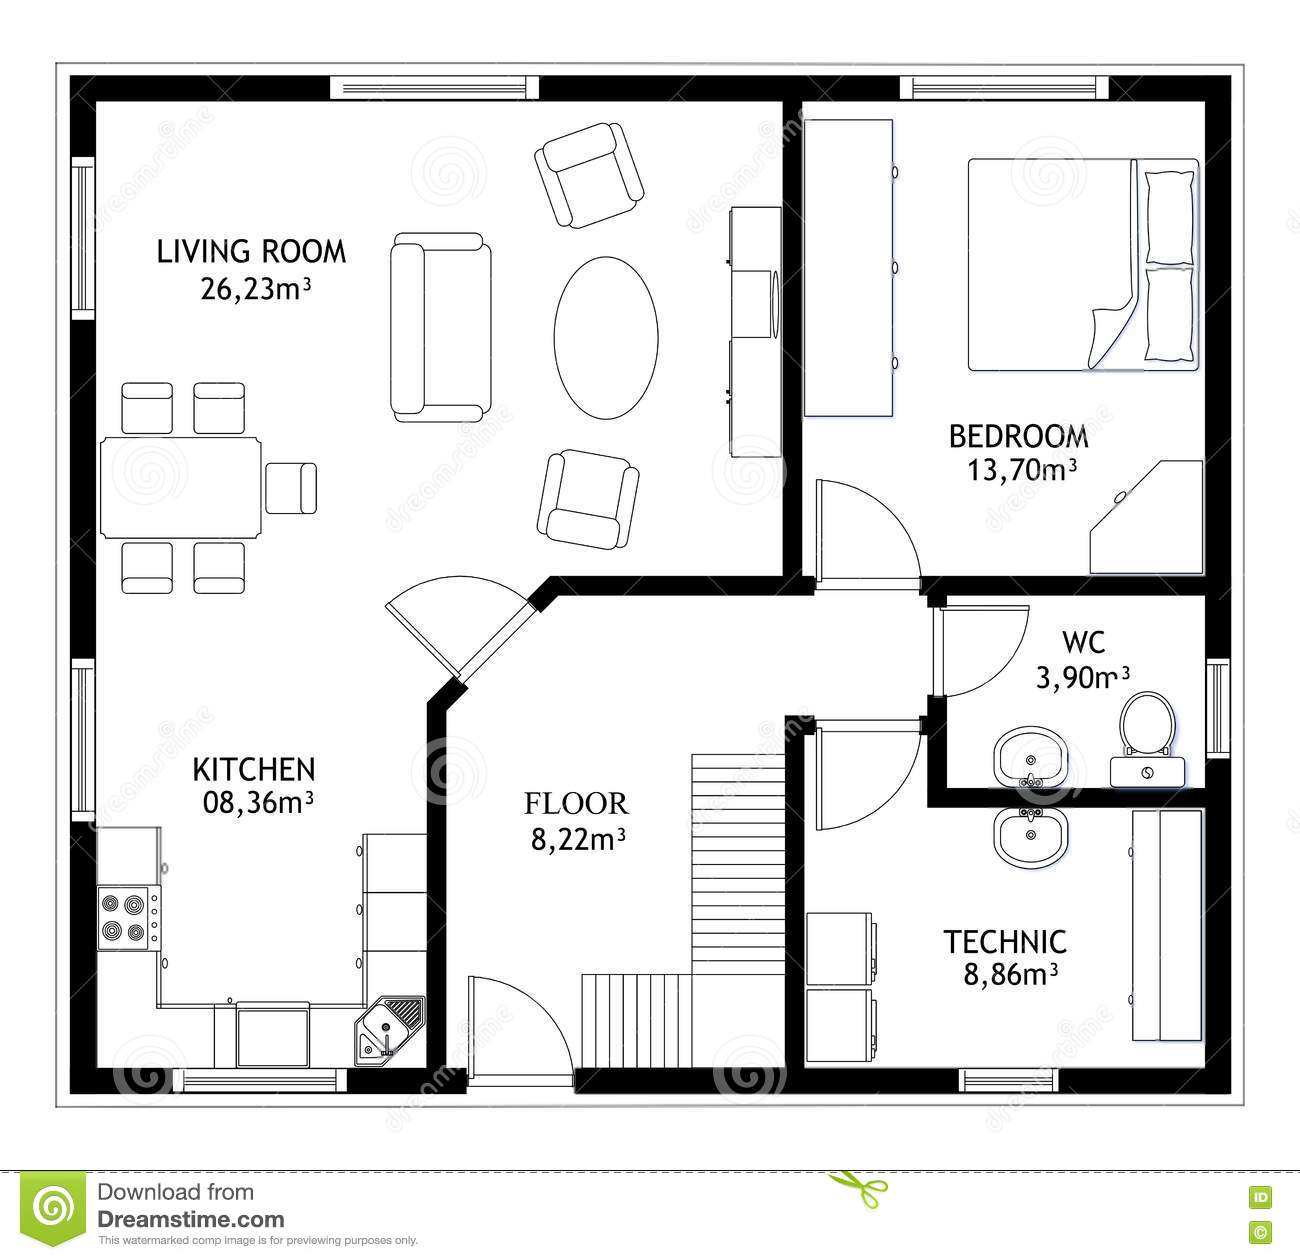room: (70, 77, 801, 596), (782, 74, 1233, 595), (68, 710, 448, 1096), (785, 787, 1230, 1095), (926, 575, 1234, 808)
window: (897, 75, 1112, 101), (173, 1067, 351, 1096), (68, 155, 98, 321), (70, 658, 95, 821), (1204, 656, 1233, 761), (959, 1067, 1061, 1094)
